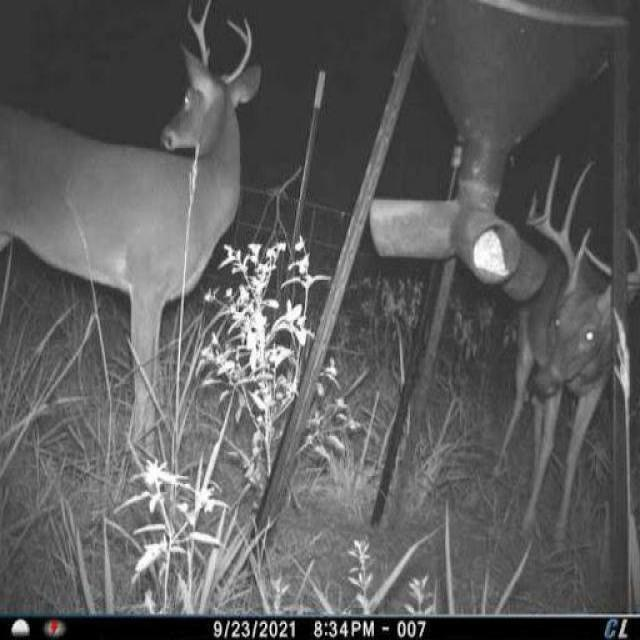deer: (0, 3, 268, 481), (509, 149, 640, 559)
